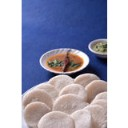idly: (57, 93, 86, 113), (24, 103, 49, 126), (39, 110, 70, 128), (72, 106, 98, 126), (23, 90, 53, 104), (87, 78, 108, 96), (34, 84, 61, 98), (49, 73, 73, 87), (74, 73, 101, 85)
